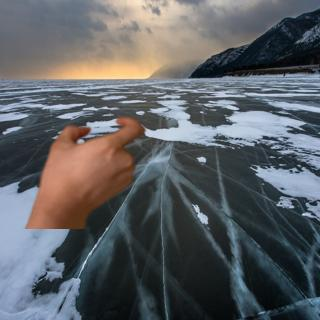HATE: (25, 109, 145, 223)
